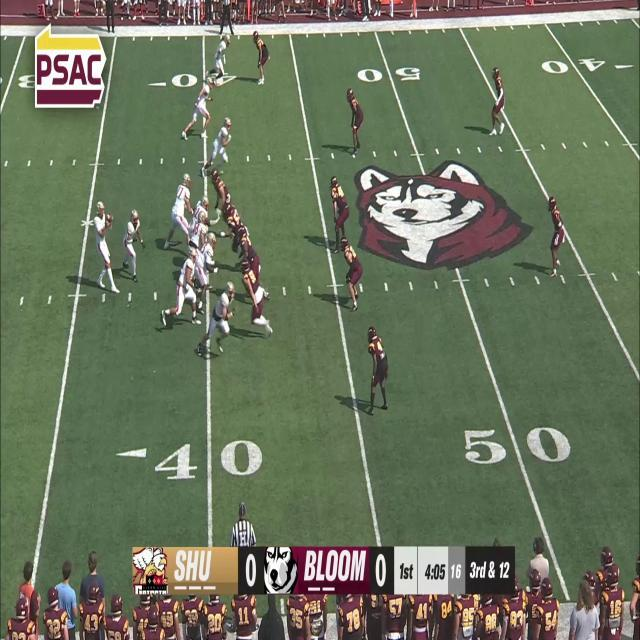football: (106, 213, 114, 223)
